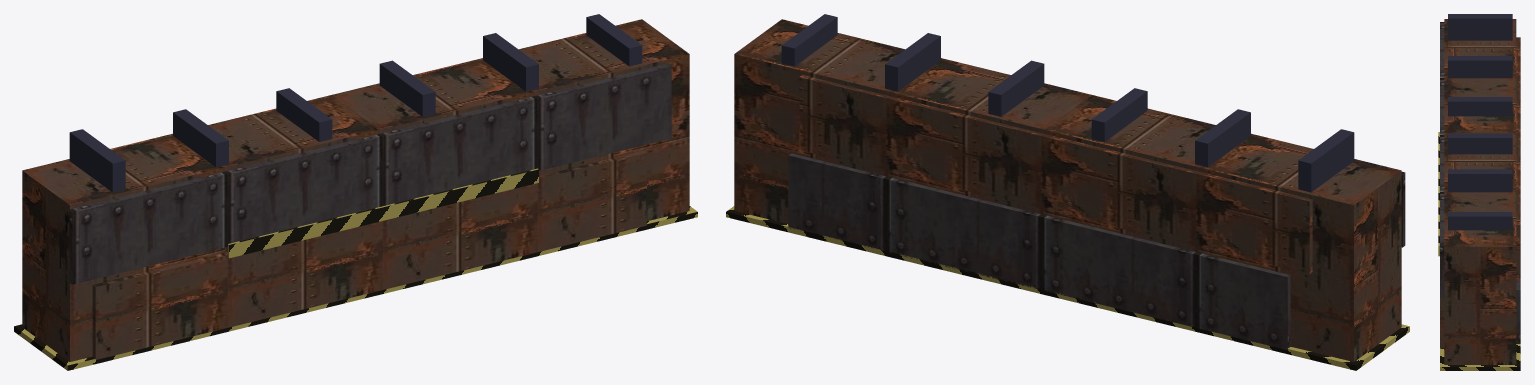
The model's file is prop_scrap_wall_3m.glb.
3 views of the same model, side by side, from view 1: azimuth 30°, elevation 25°; view 2: azimuth 150°, elevation 25°; view 3: azimuth 270°, elevation 25° (orthographic). The views are drawn at different scales.
Visible parts, largest first — view 1: prop_scrap_wall_3m; view 2: prop_scrap_wall_3m; view 3: prop_scrap_wall_3m.
Boxes of the visible parts, x1=… form: prop_scrap_wall_3m: x1=14, y1=14, x2=697, y2=370; prop_scrap_wall_3m: x1=726, y1=14, x2=1409, y2=370; prop_scrap_wall_3m: x1=1438, y1=14, x2=1520, y2=370.
Size of the model in its own units: 12.2 by 3.53 by 1.84.
4 materials, 3 textured.
